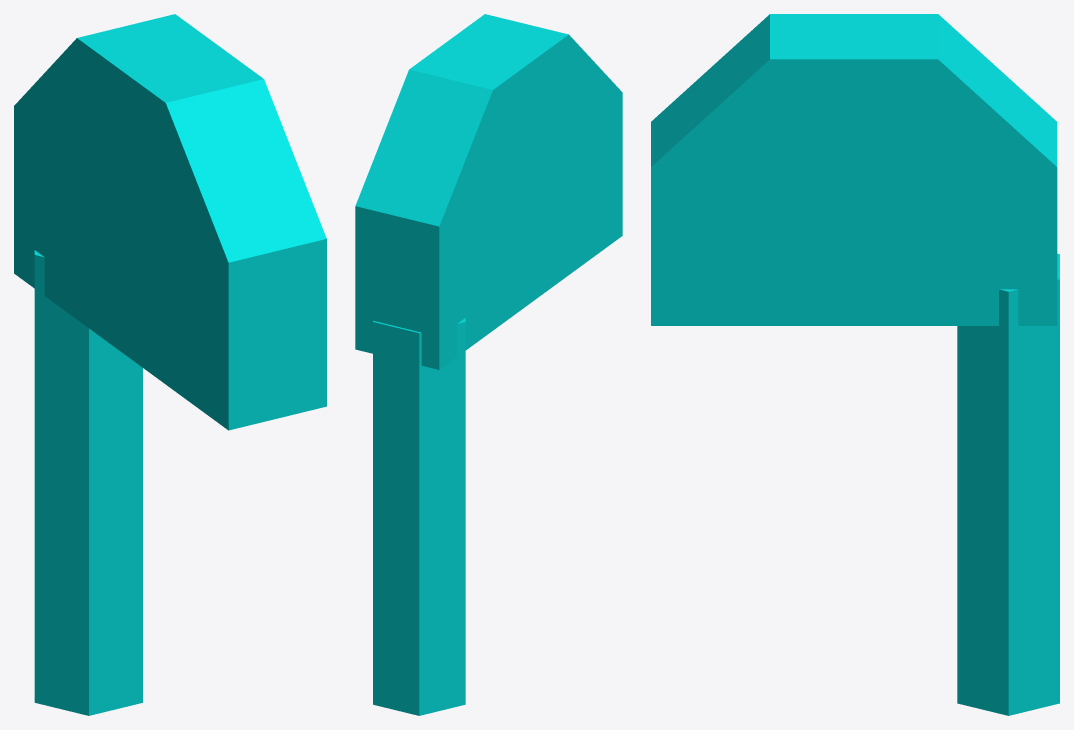
File: SM_Prop_Gingerbread_CandyCane_01_Collision.fbx
3 renders of one model, left to right at view 1: azimuth 30°, elevation 25°; view 2: azimuth 150°, elevation 25°; view 3: azimuth 270°, elevation 25°, orthographic. The views are drawn at different scales.
Visible parts, largest first — view 1: SM_Prop_Gingerbread_CandyCane_01_Collision; view 2: SM_Prop_Gingerbread_CandyCane_01_Collision; view 3: SM_Prop_Gingerbread_CandyCane_01_Collision.
Boxes of the visible parts, box(x1,y1,x2,y2) form: SM_Prop_Gingerbread_CandyCane_01_Collision: box(14, 14, 326, 715); SM_Prop_Gingerbread_CandyCane_01_Collision: box(355, 14, 622, 715); SM_Prop_Gingerbread_CandyCane_01_Collision: box(651, 14, 1059, 715).
Size of the model in its own units: 17.73 by 108 by 61.2.
